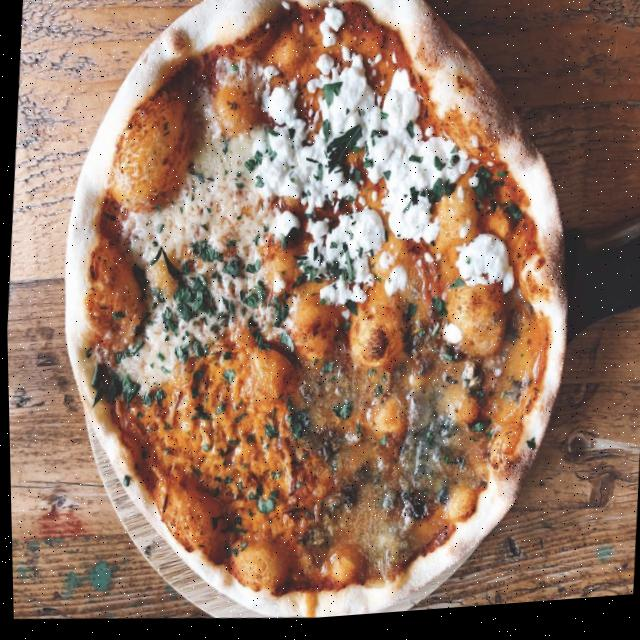pizza: (33, 0, 592, 638)
